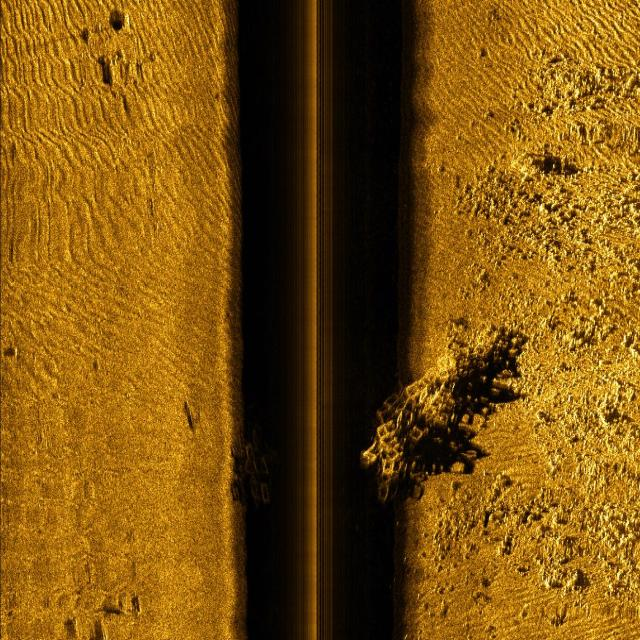artificial reef: (353, 322, 515, 487), (236, 412, 288, 515)
